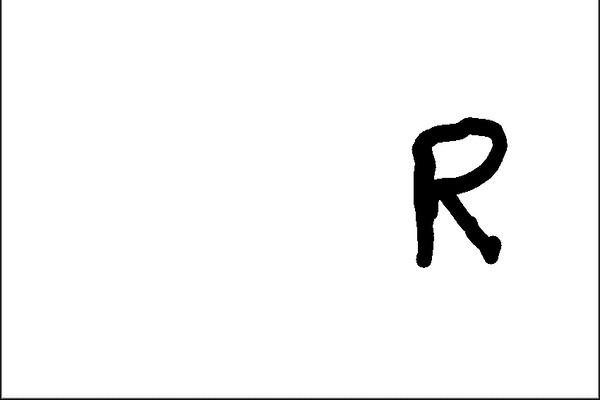R: (399, 110, 520, 283)
